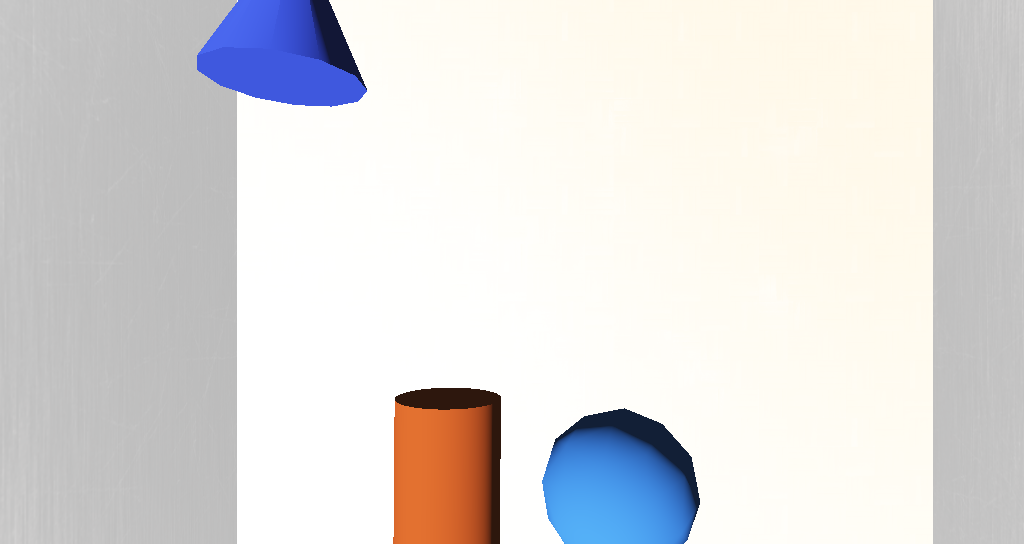cone: (418, 303, 472, 356)
cylinder: (340, 160, 428, 222)
sphere: (488, 305, 549, 353)
